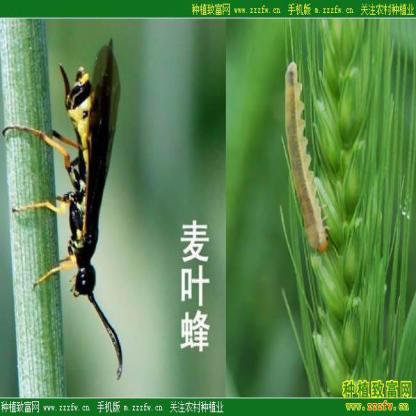sawfly: (3, 37, 130, 381), (283, 59, 329, 256)
